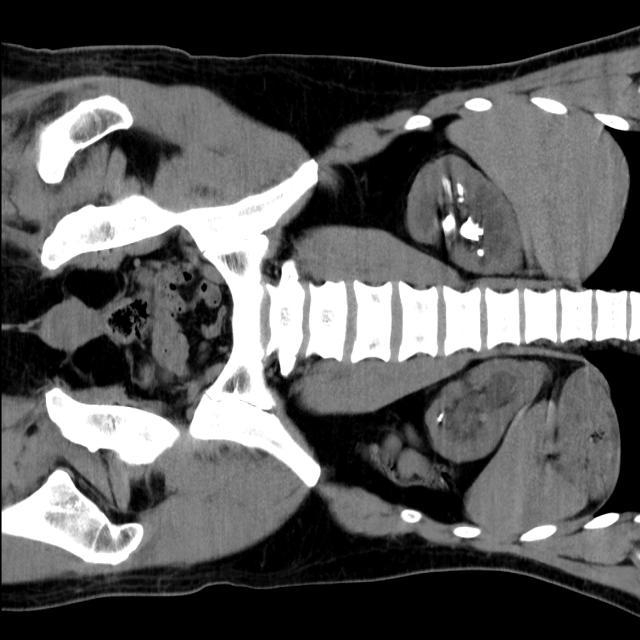kidneystone: (459, 218, 482, 241), (441, 213, 455, 233), (456, 184, 462, 203), (435, 412, 444, 424), (476, 249, 484, 258)
